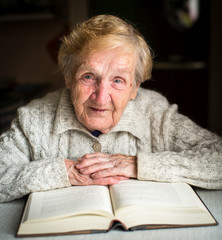young: (65, 19, 147, 129)
